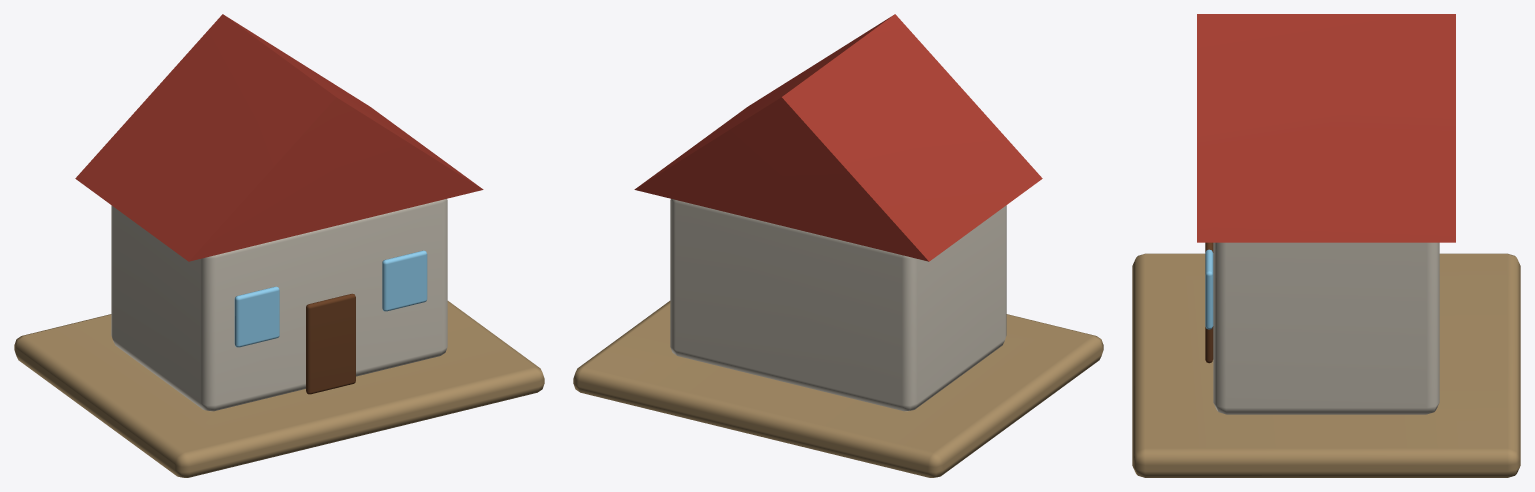
File: furn_house_model.glb
3 renders of one model, left to right at view 1: azimuth 30°, elevation 25°; view 2: azimuth 150°, elevation 25°; view 3: azimuth 270°, elevation 25°, orthographic. The views are drawn at different scales.
Parts seen in each view (by area): view 1: furn_house_model_main, furn_house_model_gloss; view 2: furn_house_model_main; view 3: furn_house_model_main, furn_house_model_gloss.
Boxes of the visible parts, bbox=[...] form: furn_house_model_main: bbox=[14, 14, 544, 477]; furn_house_model_gloss: bbox=[234, 250, 427, 347]; furn_house_model_main: bbox=[573, 14, 1103, 477]; furn_house_model_main: bbox=[1132, 14, 1520, 477]; furn_house_model_gloss: bbox=[1205, 249, 1213, 329].
Bounding box in the file's own units: 0.3 × 0.25 × 0.24.
